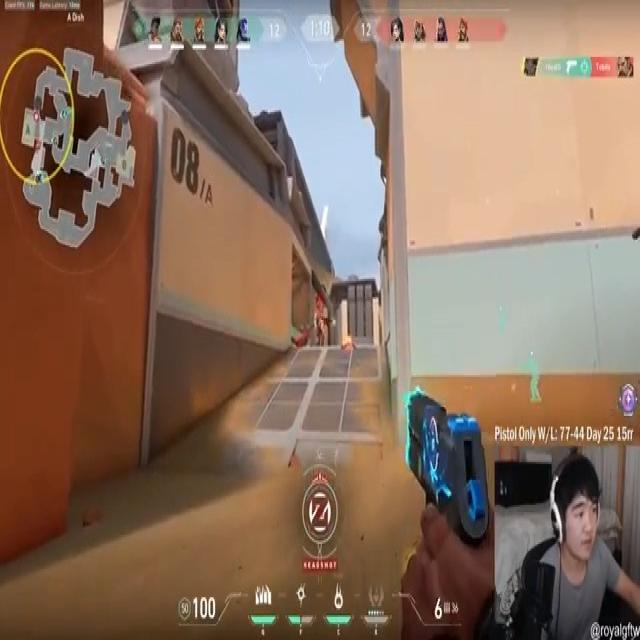ally behind wall: (520, 355, 546, 405)
enemy: (314, 298, 326, 345)
